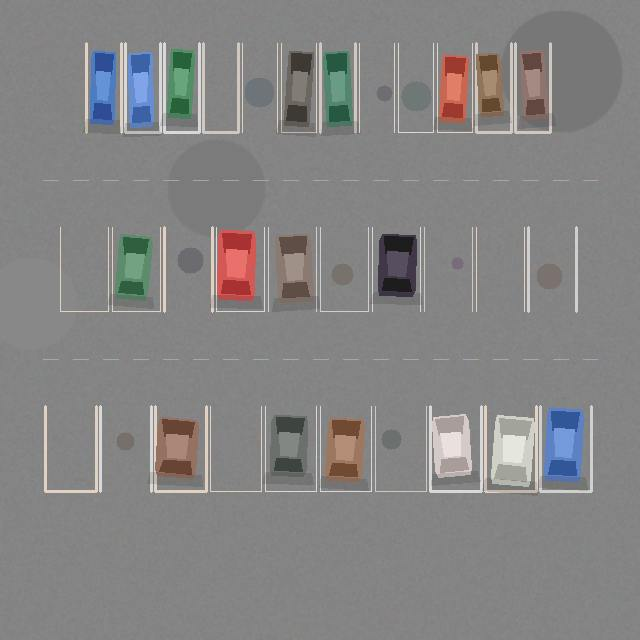space-empty: (45, 406, 96, 491), (100, 406, 151, 491), (210, 406, 261, 491), (375, 406, 426, 491), (60, 227, 108, 311), (164, 227, 212, 311), (320, 227, 368, 311), (424, 227, 472, 311), (476, 227, 524, 311), (528, 227, 576, 311), (203, 43, 238, 132), (242, 43, 277, 132), (359, 43, 394, 132), (398, 43, 433, 132)
space-occupied: (155, 406, 206, 491), (265, 406, 316, 491), (320, 406, 371, 491), (430, 406, 481, 491), (485, 406, 536, 491), (540, 406, 591, 491), (112, 227, 160, 311), (216, 227, 264, 311), (268, 227, 316, 311), (372, 227, 420, 311), (86, 43, 121, 132), (125, 43, 160, 132), (164, 43, 199, 132), (281, 43, 316, 132), (320, 43, 355, 132), (437, 43, 472, 132), (476, 43, 511, 132), (515, 43, 550, 132)
